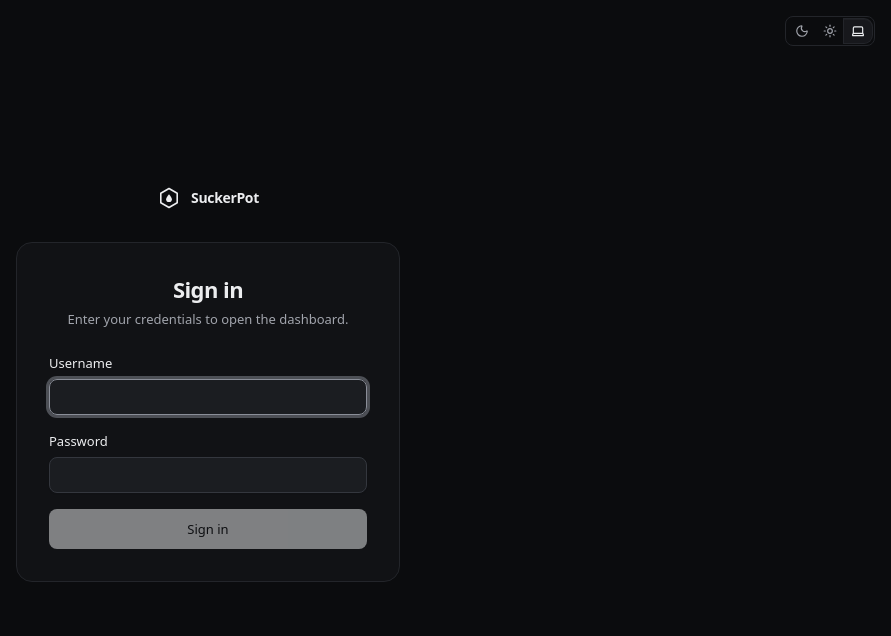
auth flow › explains rate limiting
In the field labelled "Username": x=208, y=397 [49, 379, 367, 415], type "admin"
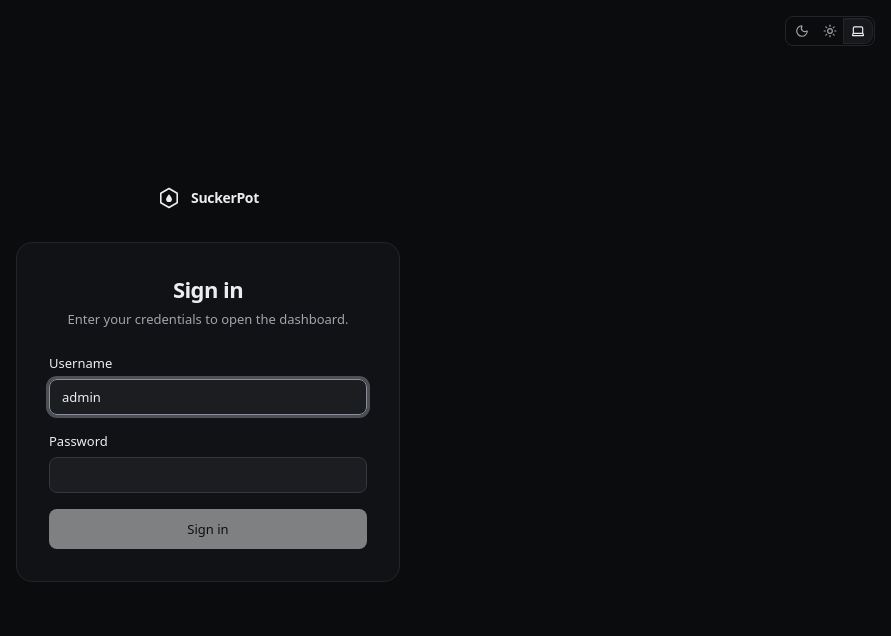
In the password field labelled "Password": x=208, y=475 [49, 457, 367, 493], type "limited"
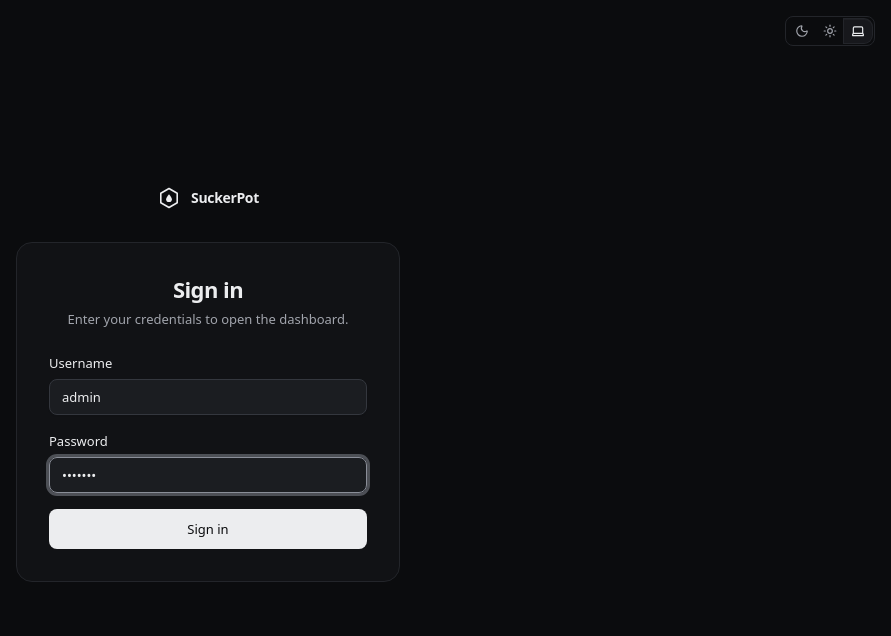
Click the button "Sign in": x=208, y=529 [49, 509, 367, 549]
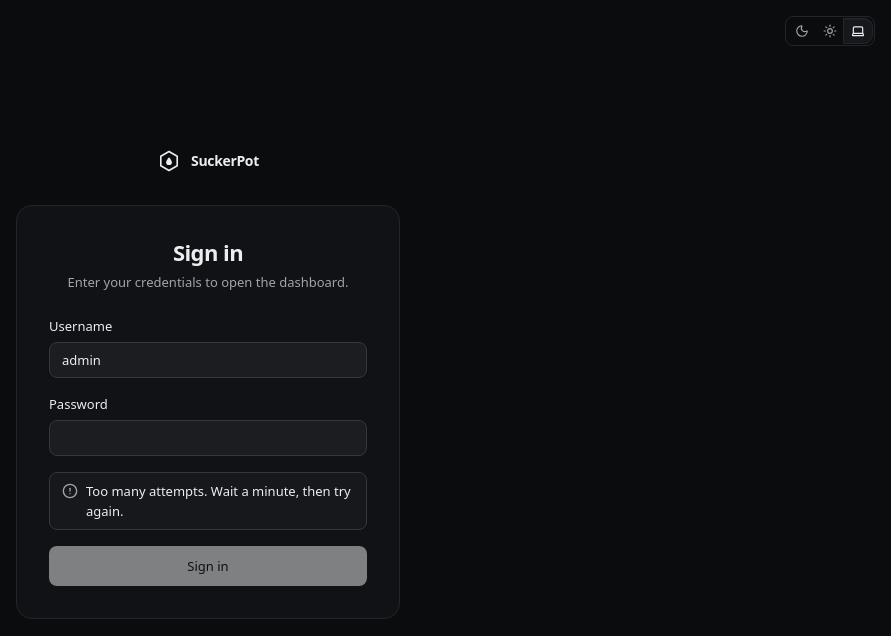
Expected: the message shows "Too many attempts", [86, 482, 351, 520]
